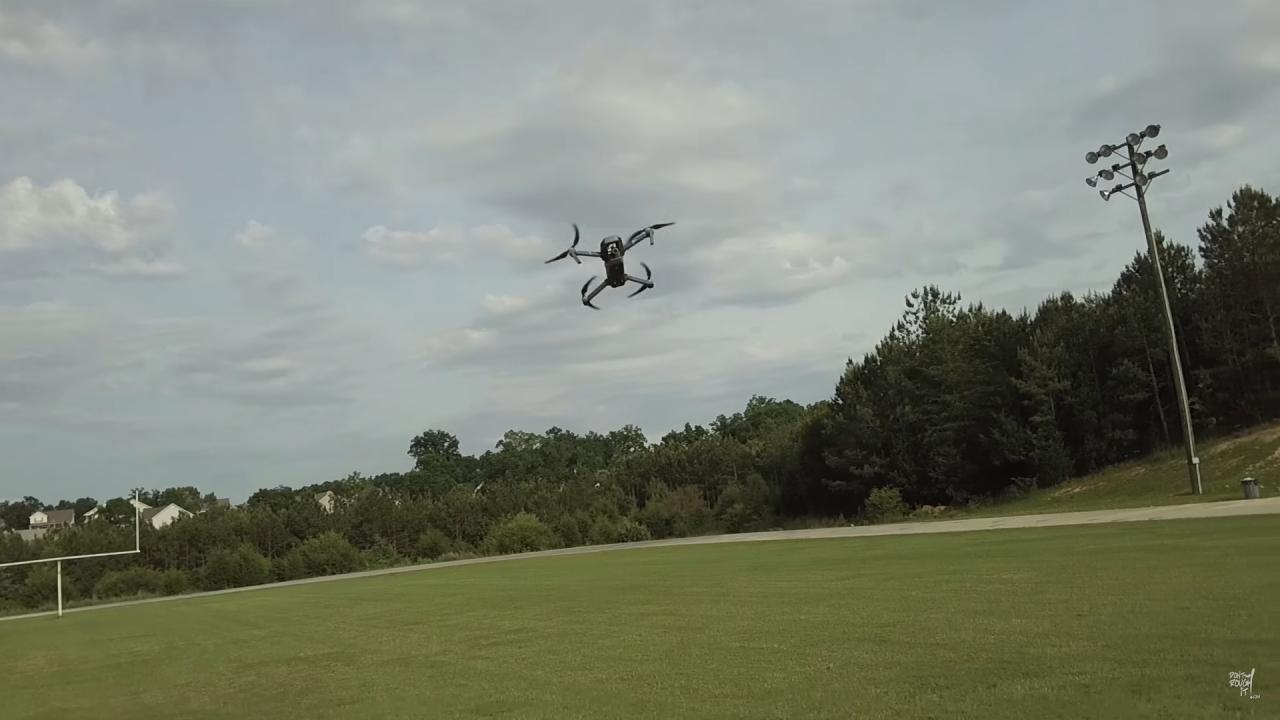Drone: (534, 212, 683, 322)
